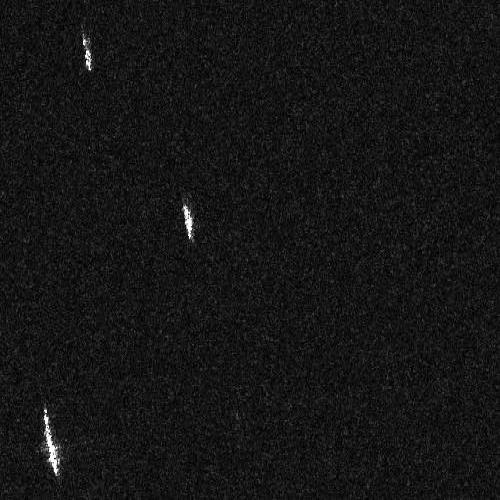ship: (42, 406, 61, 478), (182, 203, 194, 241), (82, 37, 93, 72)
